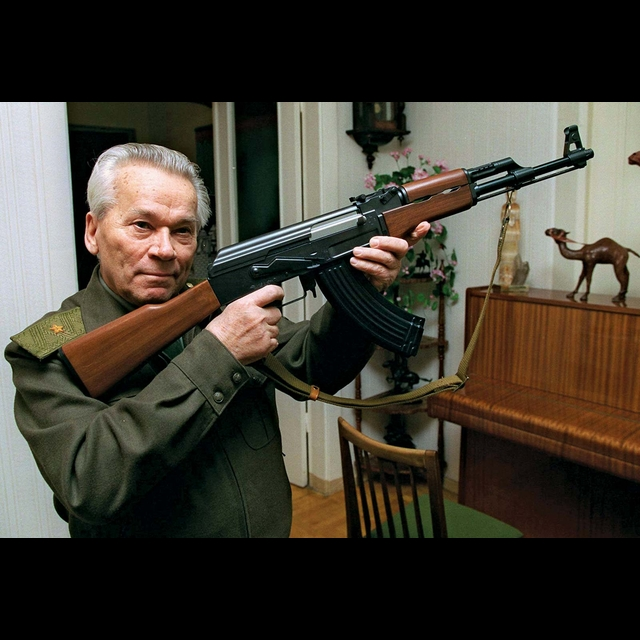AK47: (227, 127, 594, 359)
